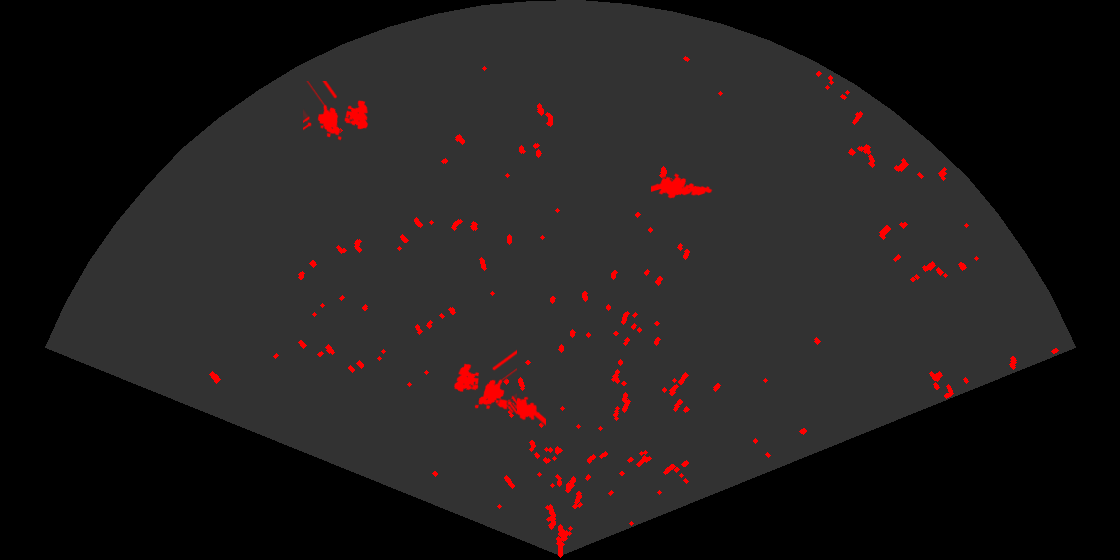cage: (452, 348, 517, 416), (303, 81, 370, 142)
frogman: (487, 392, 546, 428), (651, 172, 713, 200)
